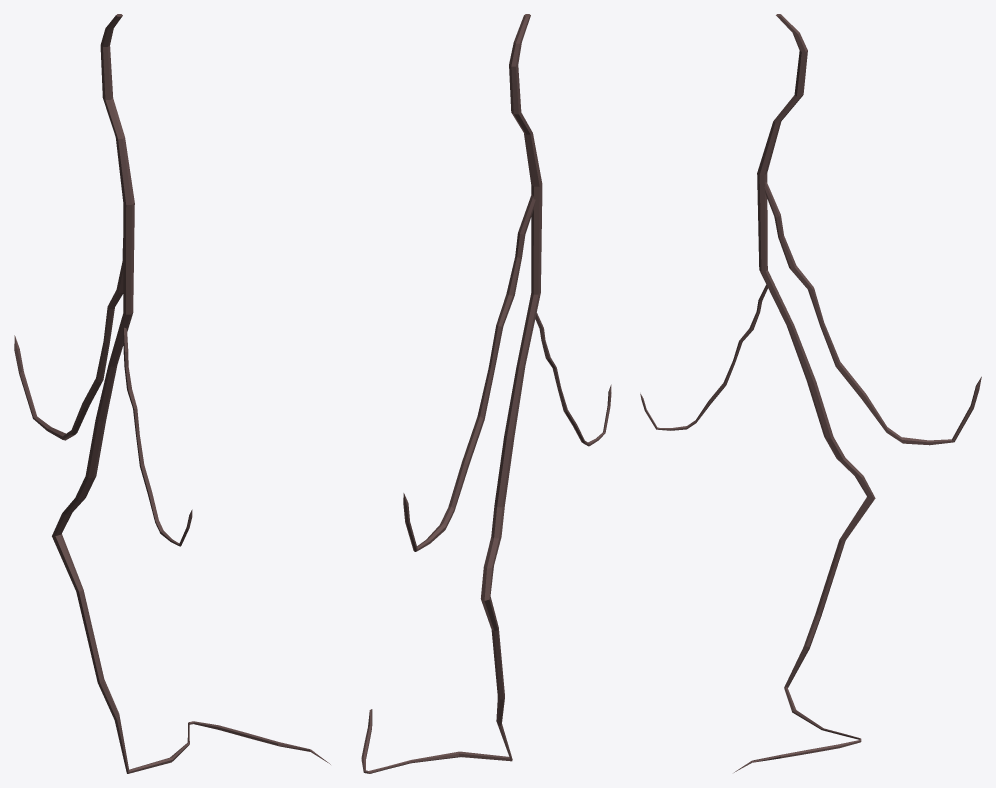
The picture shows the model from 3 angles, left to right: view 1: azimuth 30°, elevation 25°; view 2: azimuth 150°, elevation 25°; view 3: azimuth 270°, elevation 25°; orthographic projection. The views are drawn at different scales.
Parts seen in each view (by area): view 1: Root 6; view 2: Root 6; view 3: Root 6.
Boxes of the visible parts, x1=… form: Root 6: x1=14, y1=14, x2=330, y2=773; Root 6: x1=361, y1=14, x2=611, y2=773; Root 6: x1=640, y1=14, x2=981, y2=772.
Bounding box in the file's own units: 271 × 1003 × 457.
